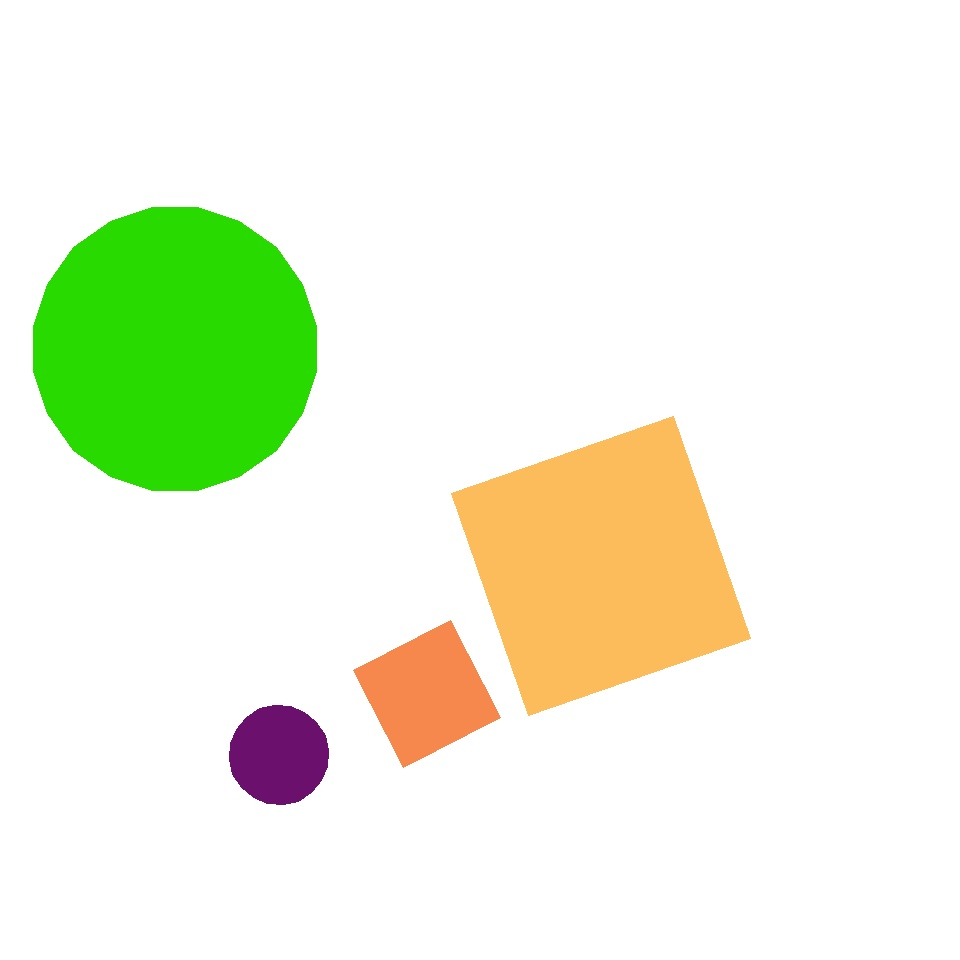square: (452, 416, 751, 716), (368, 541, 664, 836), (721, 520, 956, 755), (353, 620, 500, 768)
triangle: (223, 146, 564, 488), (33, 207, 316, 491), (230, 706, 329, 804)
